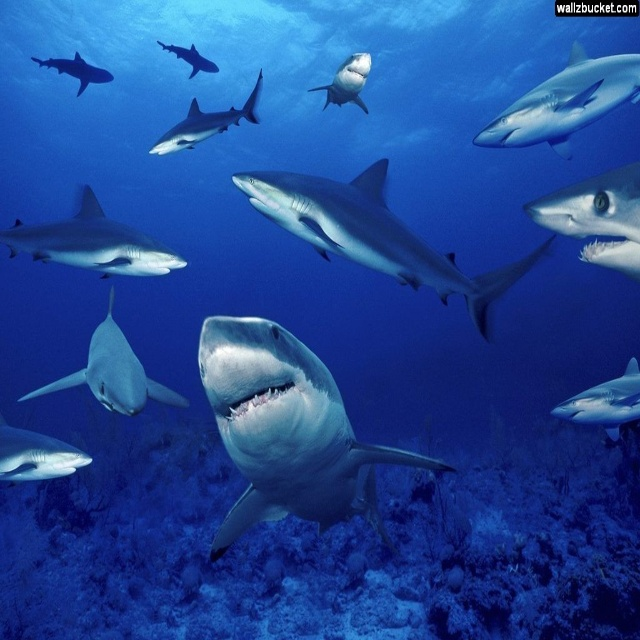Shark: (193, 318, 453, 562), (231, 155, 554, 342), (16, 291, 192, 415), (469, 38, 639, 162), (0, 184, 188, 278), (528, 164, 639, 272), (151, 68, 262, 156), (550, 352, 639, 444), (0, 417, 91, 489), (33, 52, 113, 101), (308, 51, 368, 111), (158, 38, 224, 78)
